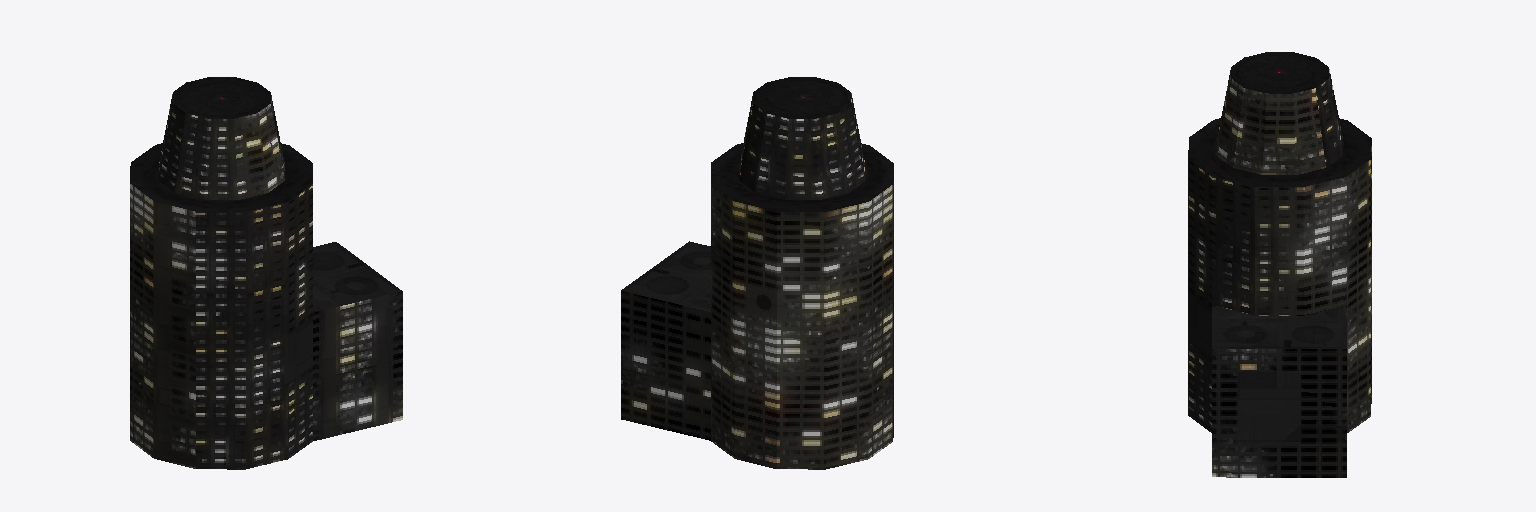
The picture shows the model from 3 angles: view 1: azimuth 30°, elevation 25°; view 2: azimuth 150°, elevation 25°; view 3: azimuth 270°, elevation 25°; orthographic projection.
Visible parts, largest first — view 1: building_30; view 2: building_30; view 3: building_30.
Boxes of the visible parts, <box> form: building_30: <box>130,77,402,469</box>; building_30: <box>621,77,893,469</box>; building_30: <box>1188,52,1371,477</box>.
Bounding box in the file's own units: 82.69 × 116 × 57.79.
1 materials, 1 textured.